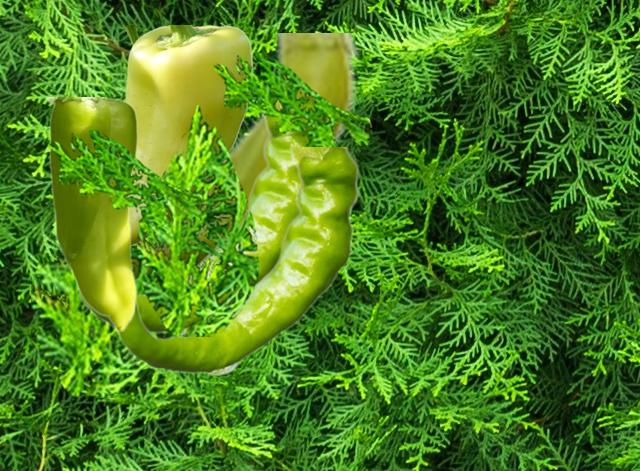green_chili: (75, 99, 313, 334), (116, 147, 359, 375), (133, 33, 359, 260), (122, 25, 252, 246), (45, 97, 136, 330)
